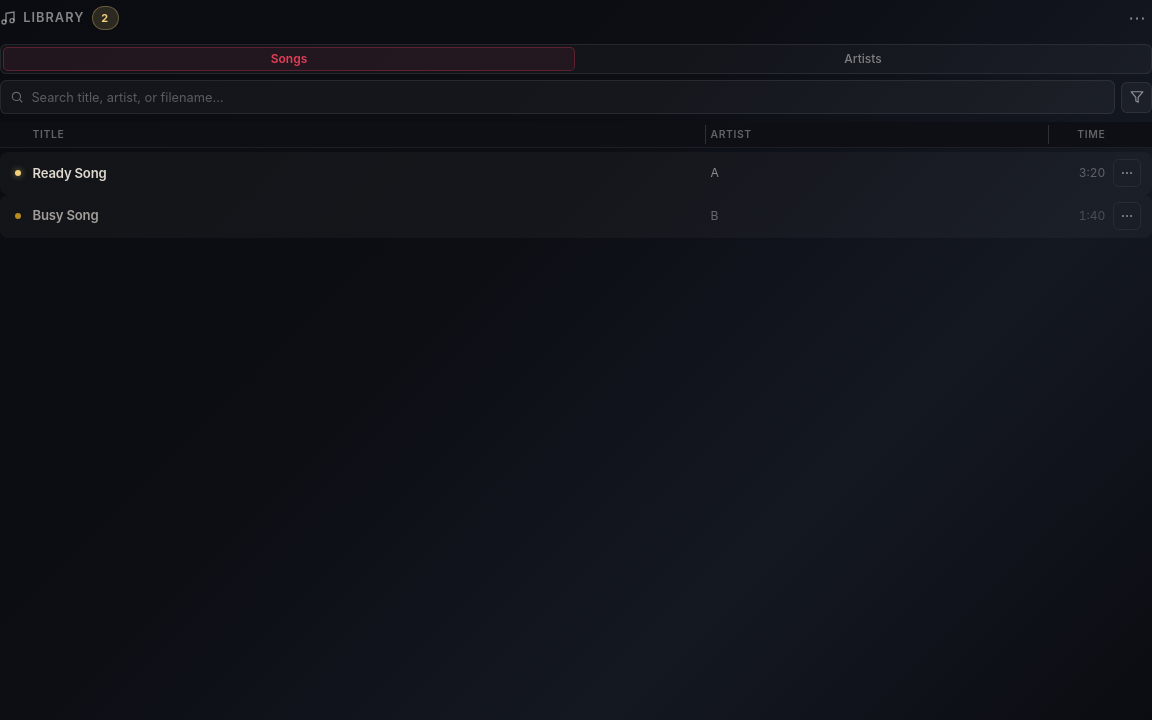
Test: export action gating › opens the export dialog for the chosen song
This screenshot has width=1152, height=720.
Step 1. Click the 1st button with class "more-btn" → (1127, 173), box [1113,159,1141,187]
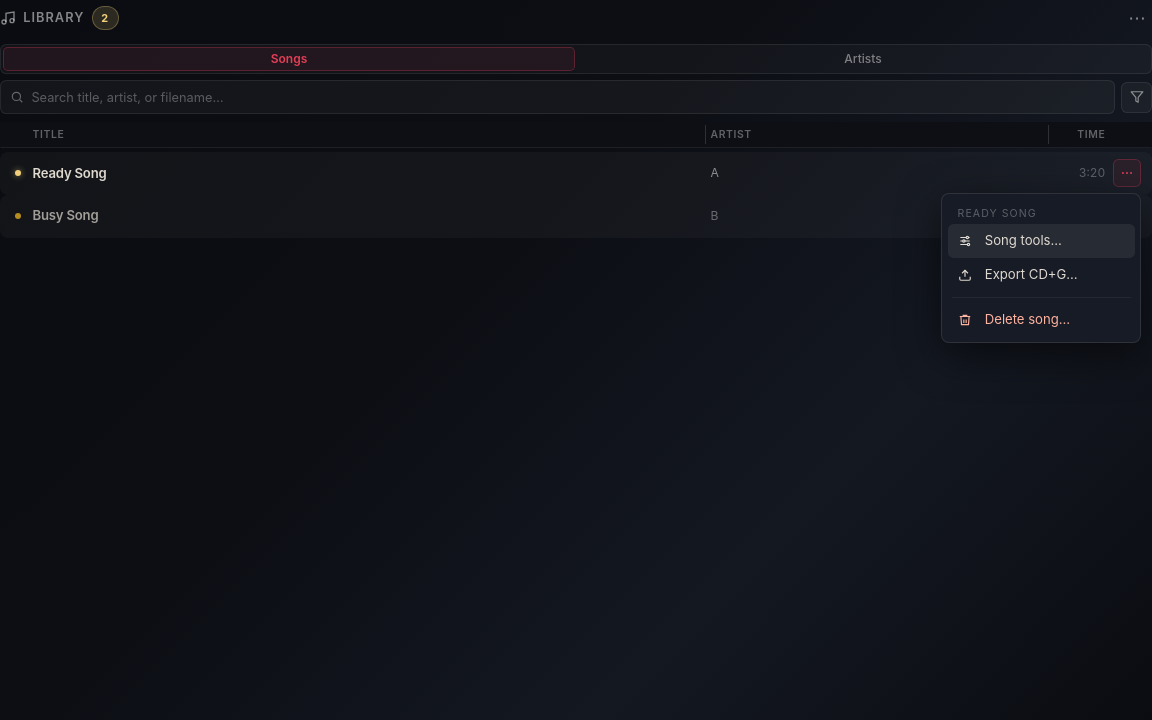
Step 2. Click the menu item with class "row-menu__export" → (1041, 275), box [948,258,1135,292]
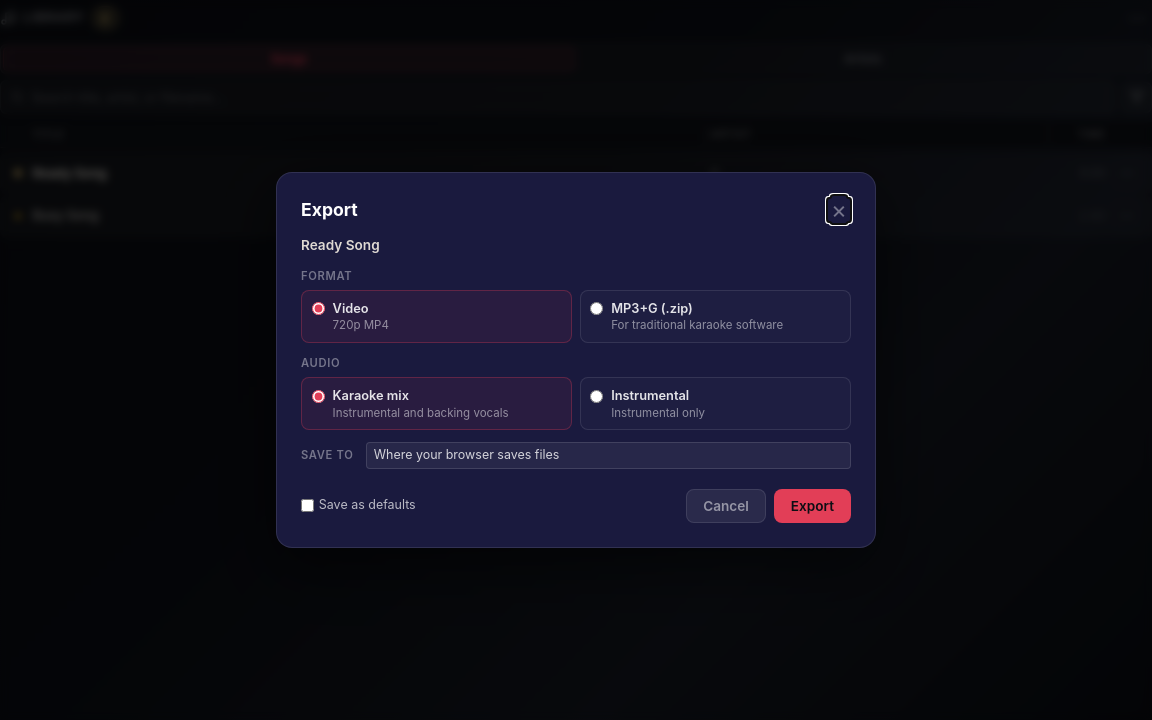
Expected: the element with class "modal-card" is shown, [276,172,876,548]
Expected: the heading "Export" is shown, [301,197,358,224]
Expected: the element with class "modal-card" shows "Ready Song", [301,238,380,254]
